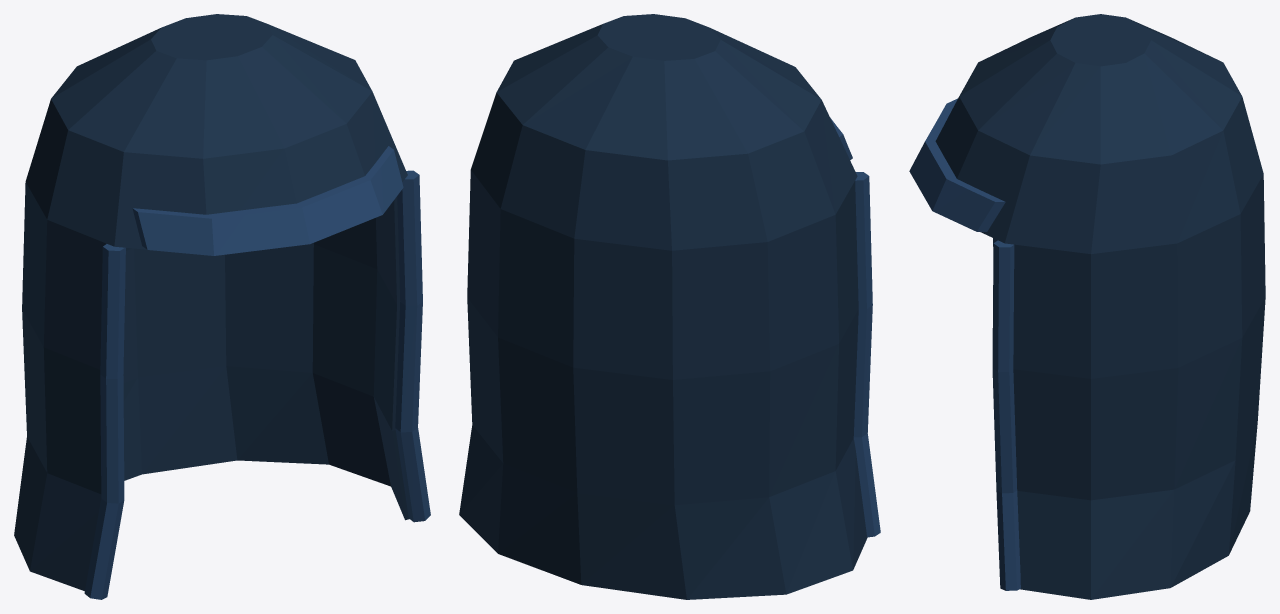
File: cloth_head-male.glb
The picture shows the model from 3 angles, left to right: view 1: azimuth 30°, elevation 25°; view 2: azimuth 150°, elevation 25°; view 3: azimuth 270°, elevation 25°; orthographic projection. The views are drawn at different scales.
Parts seen in each view (by area): view 1: cloth joined crown and cowl, Fitted brow binding, Bound face opening -1, Bound face opening 1; view 2: cloth joined crown and cowl, Bound face opening -1; view 3: cloth joined crown and cowl, Bound face opening 1, Fitted brow binding.
Boxes of the visible parts, x1,y1,x2,y2 form: cloth joined crown and cowl: (14,14,408,591); Fitted brow binding: (132,146,403,255); Bound face opening -1: (84,244,125,599); Bound face opening 1: (395,170,430,522); cloth joined crown and cowl: (459,14,867,599); Bound face opening -1: (853,172,880,537); cloth joined crown and cowl: (935,14,1265,599); Bound face opening 1: (992,240,1020,590); Fitted brow binding: (909,98,1005,231).
Bounding box in the file's own units: 1.08 × 1.35 × 0.9184.
